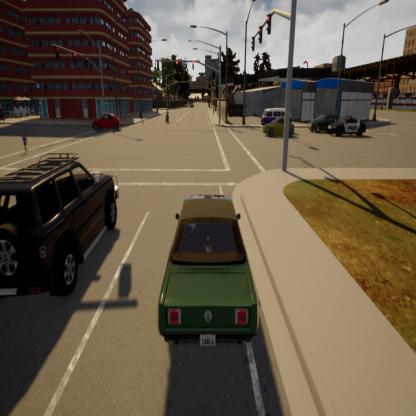Cars: (0, 130, 124, 332), (154, 177, 265, 372), (86, 107, 129, 148), (327, 110, 370, 139), (309, 105, 346, 136), (259, 116, 298, 142), (258, 101, 294, 129), (189, 98, 195, 112)
Pedestrian: (20, 126, 32, 157)
